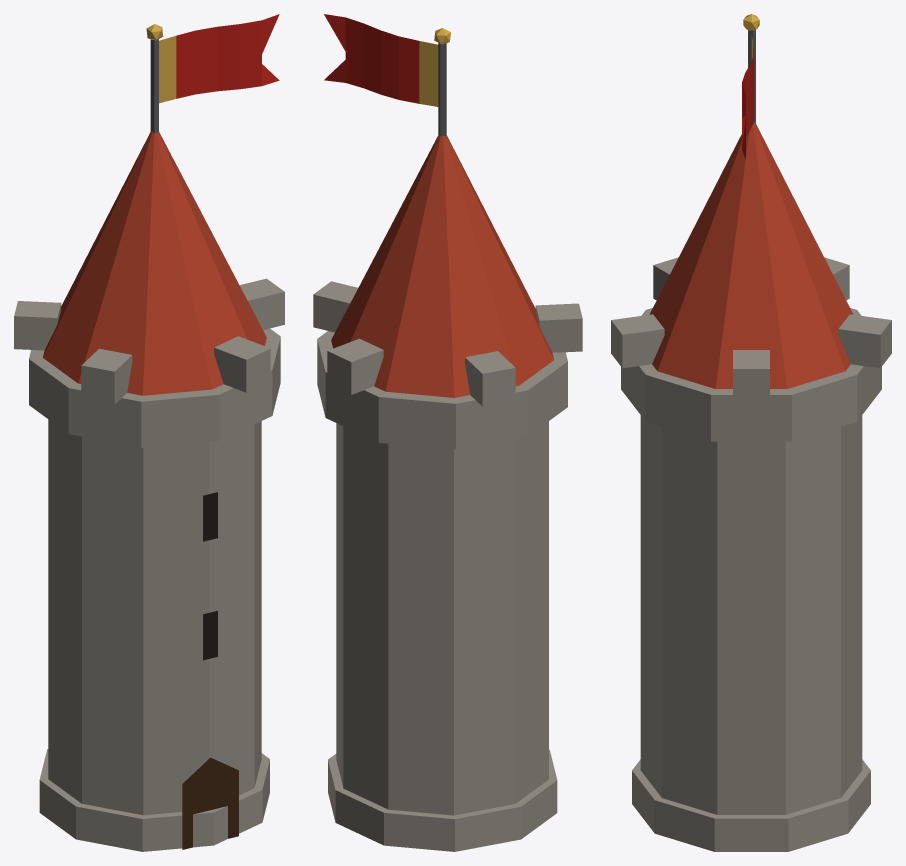
File: tower.glb
3 renders of one model, left to right at view 1: azimuth 30°, elevation 25°; view 2: azimuth 150°, elevation 25°; view 3: azimuth 270°, elevation 25°, orthographic.
Visible parts, largest first — view 1: prop_tower; view 2: prop_tower; view 3: prop_tower.
Boxes of the visible parts, x1=… form: prop_tower: x1=14, y1=14, x2=284, y2=851; prop_tower: x1=313, y1=14, x2=582, y2=851; prop_tower: x1=611, y1=14, x2=891, y2=851.
Bounding box in the file's own units: 0.364 × 1.18 × 0.3807.
